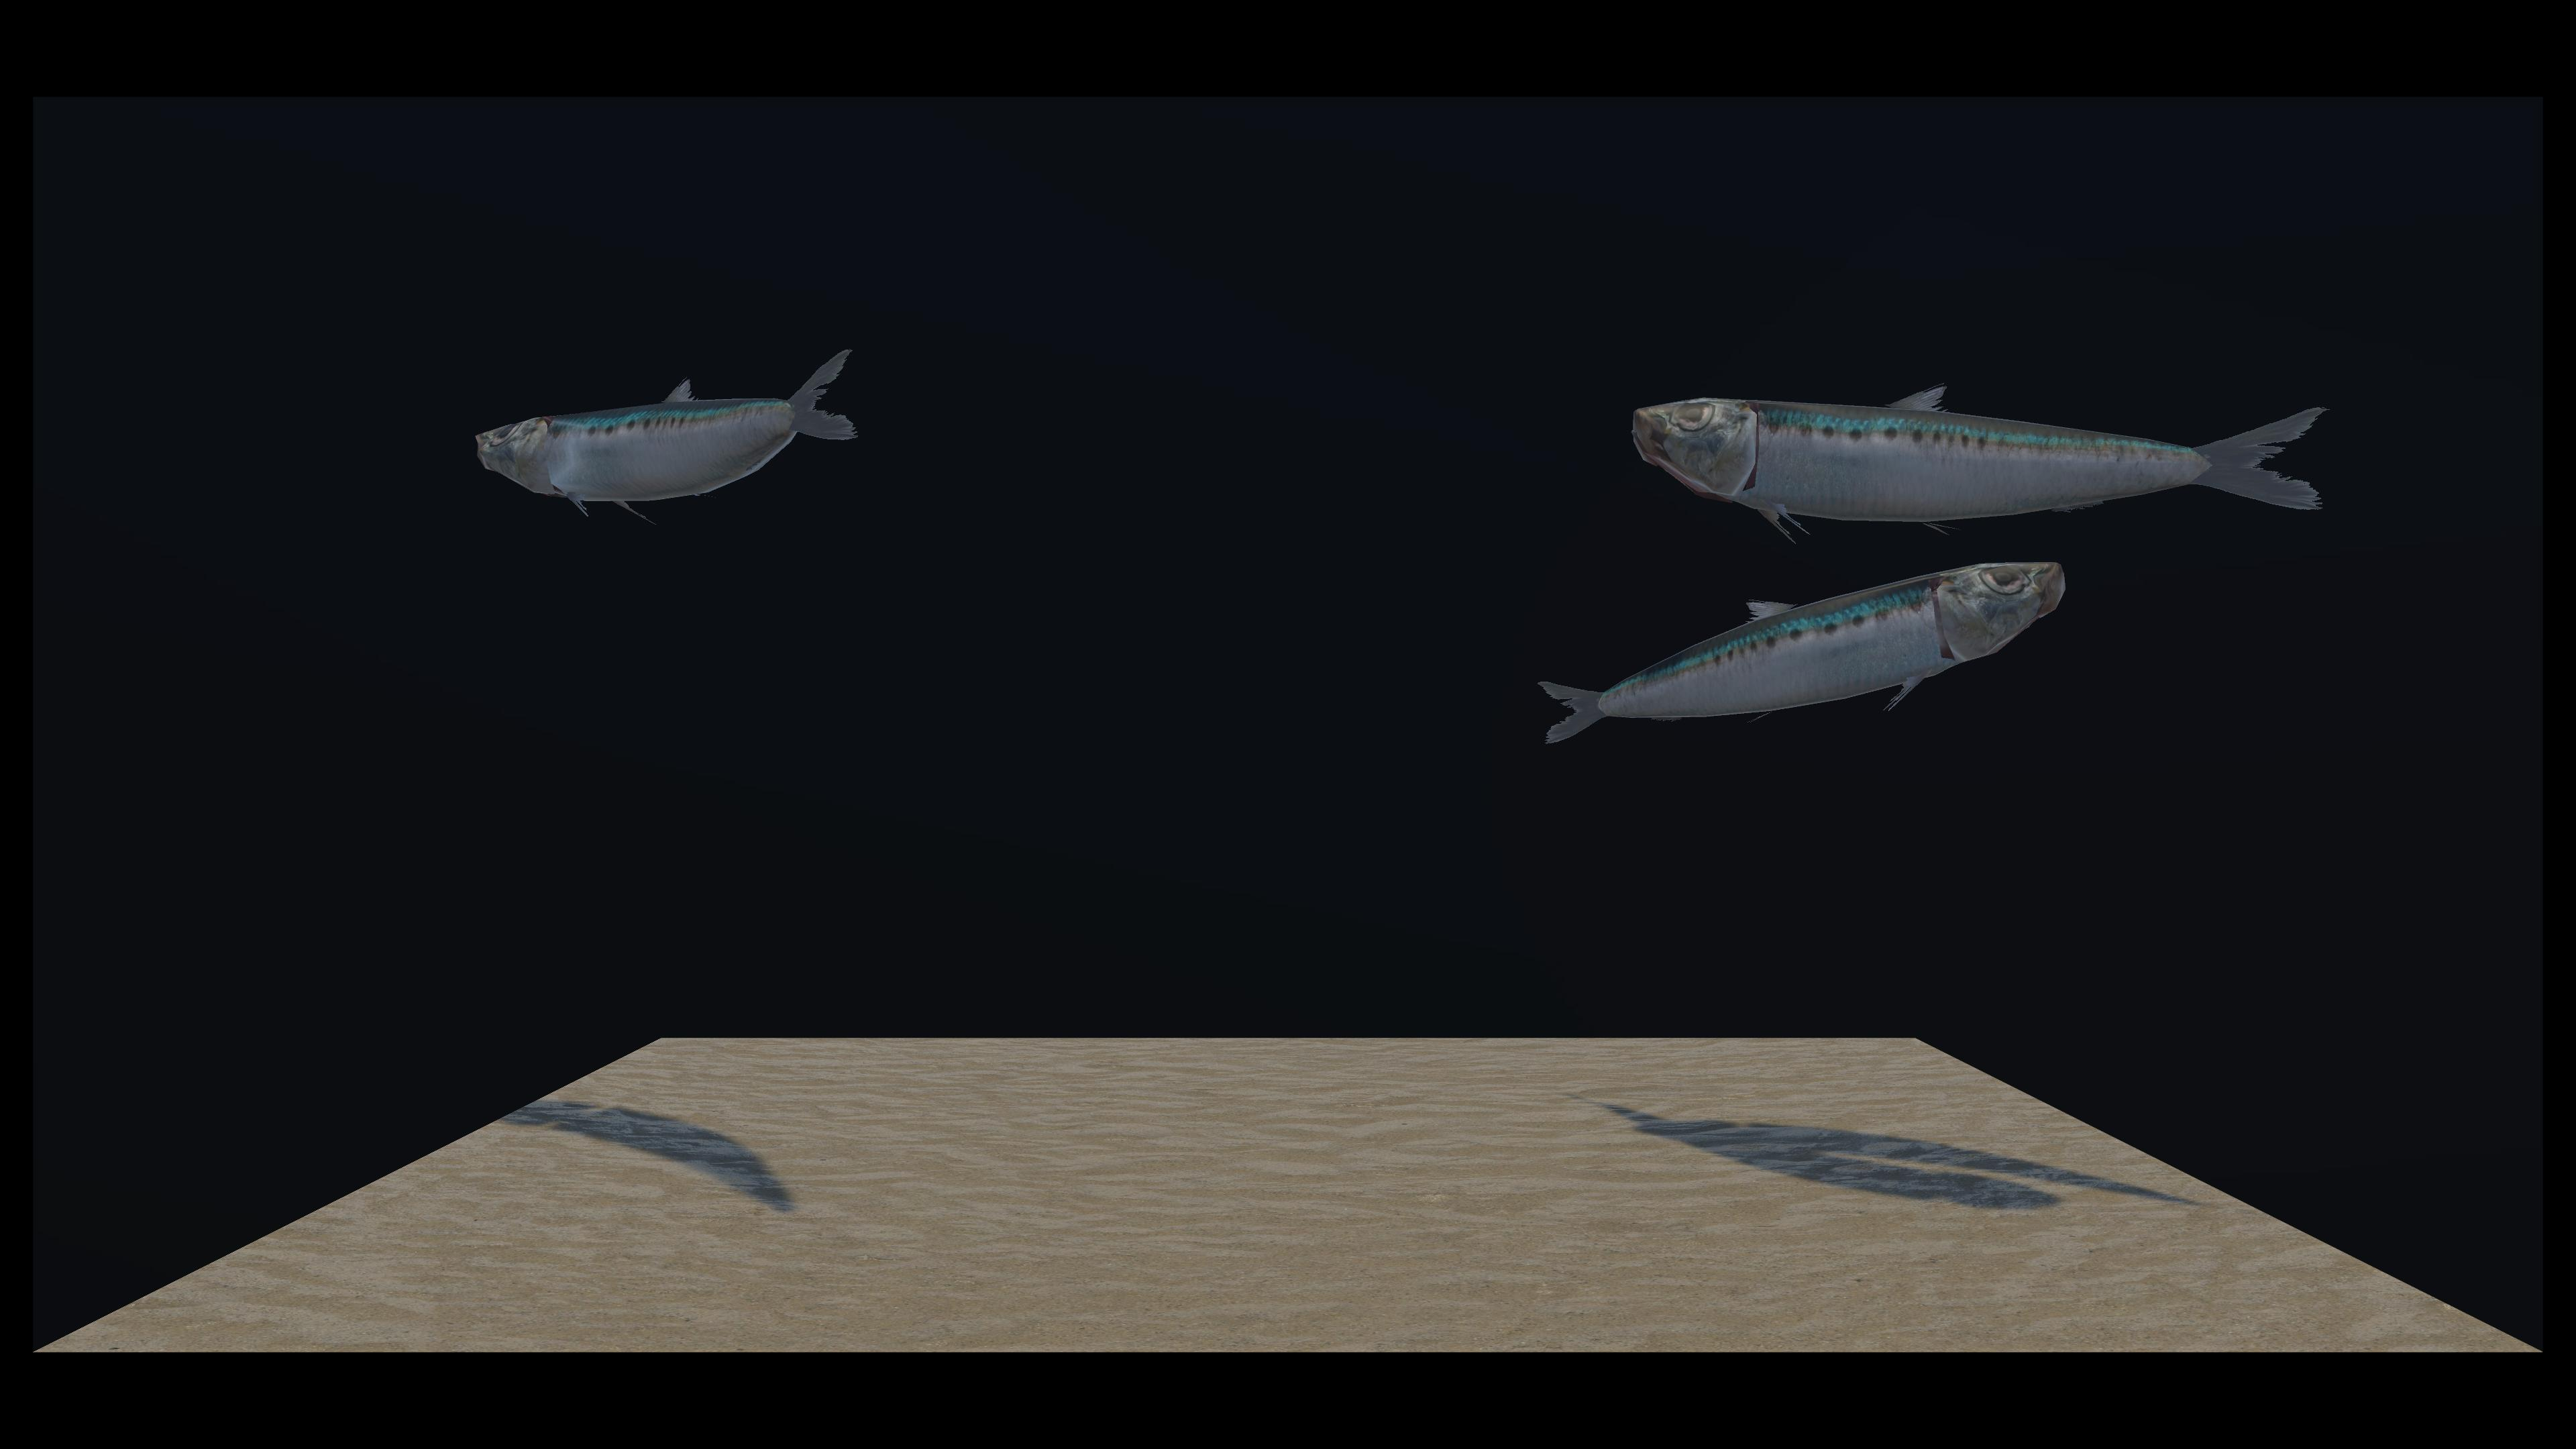Sardine_Front: (835, 416, 2052, 745), (870, 389, 2316, 547), (488, 347, 977, 534)
